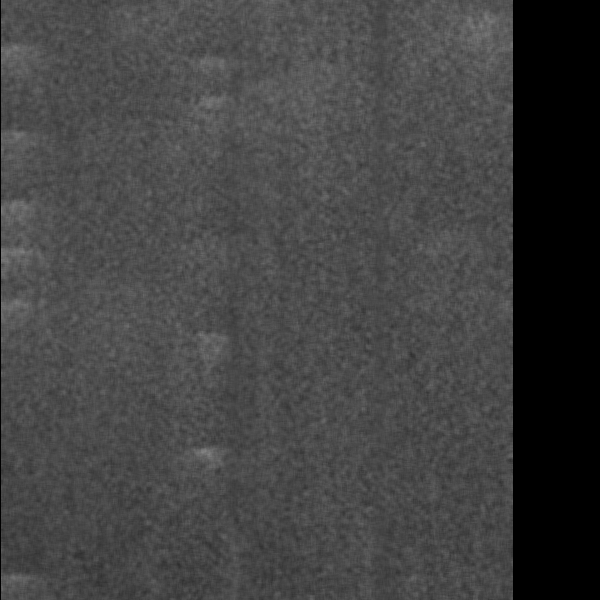spark: (249, 1, 323, 70), (369, 347, 414, 440), (302, 136, 360, 204), (406, 318, 436, 428), (247, 121, 280, 194), (434, 74, 454, 152), (365, 103, 412, 131)
